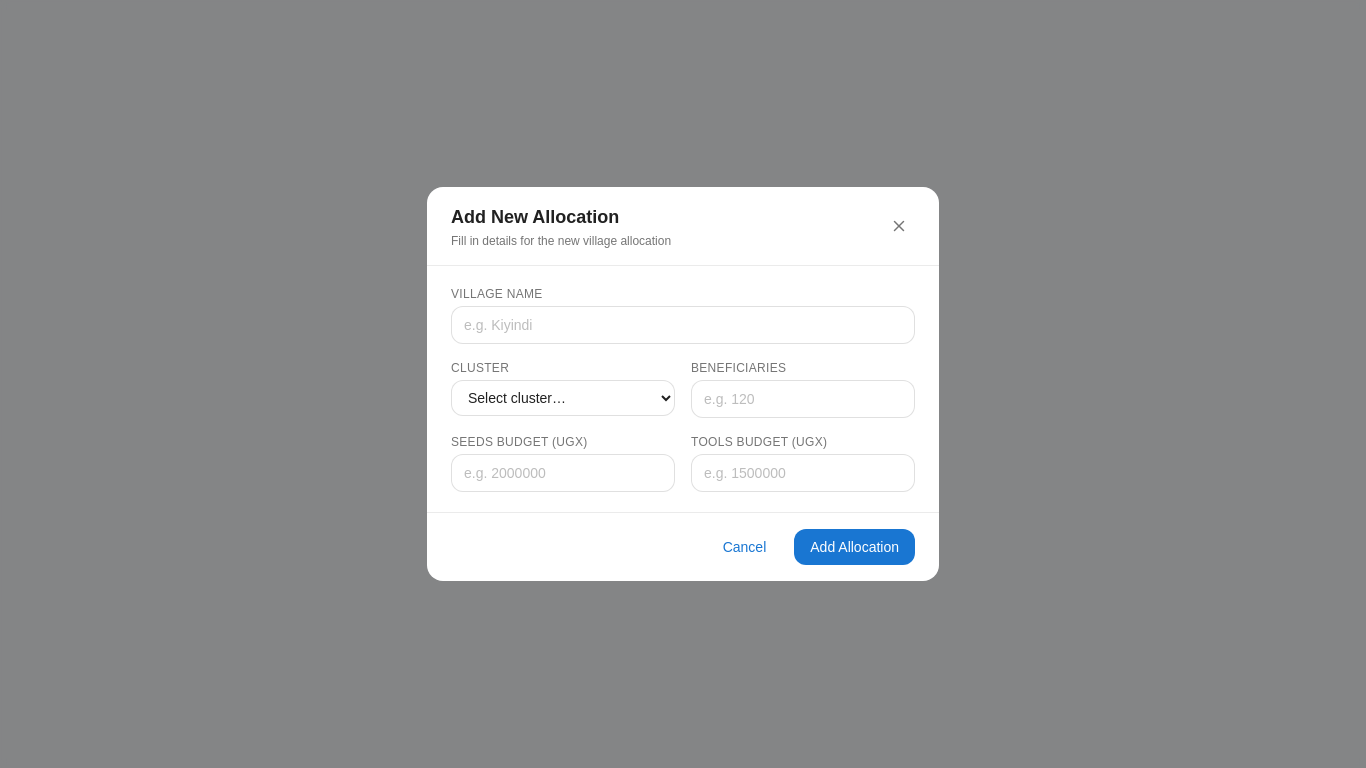
Test case: validation › rejects 1-character village name
Type "X" into the field with placeholder "e.g. Kiyindi".
click(683, 325); type("X")  # box [451,306,915,344]
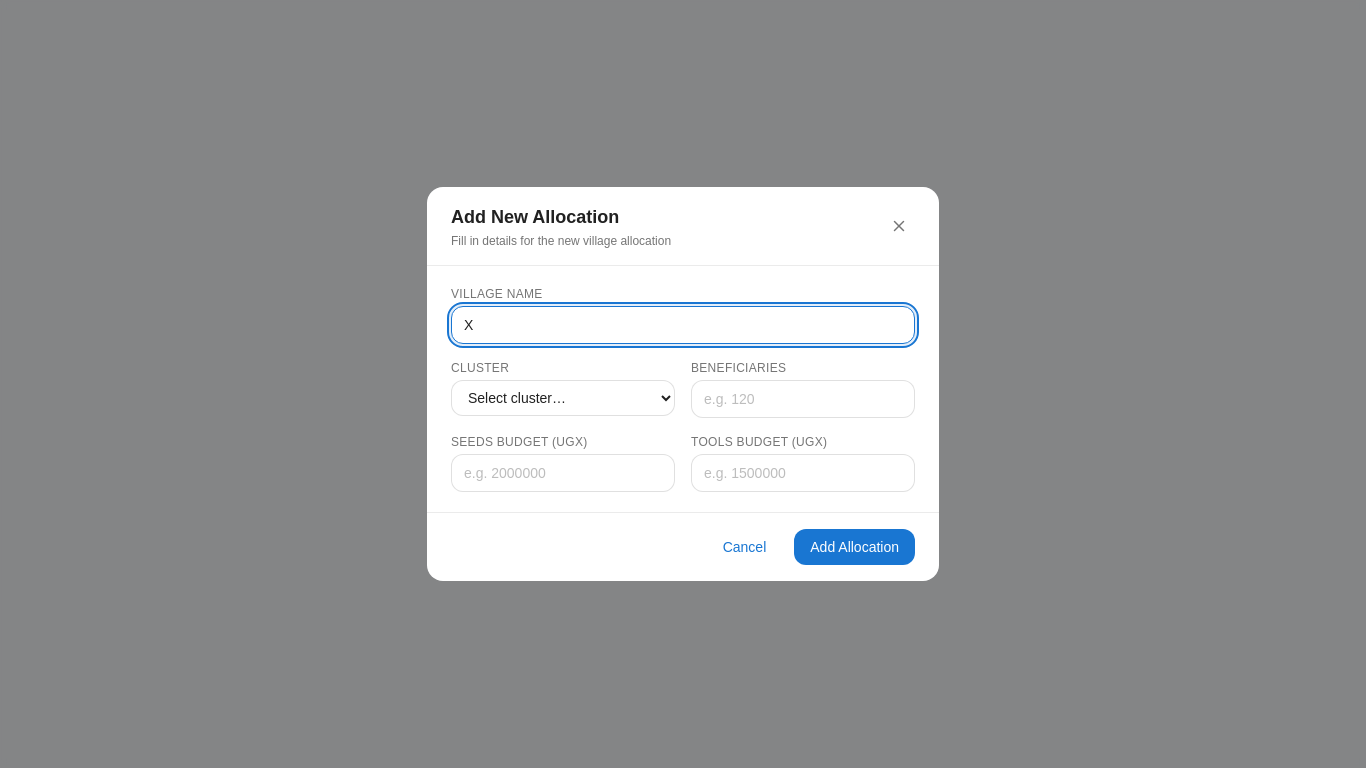
Click the button "Add Allocation".
click(855, 547)  # box [794,529,915,565]
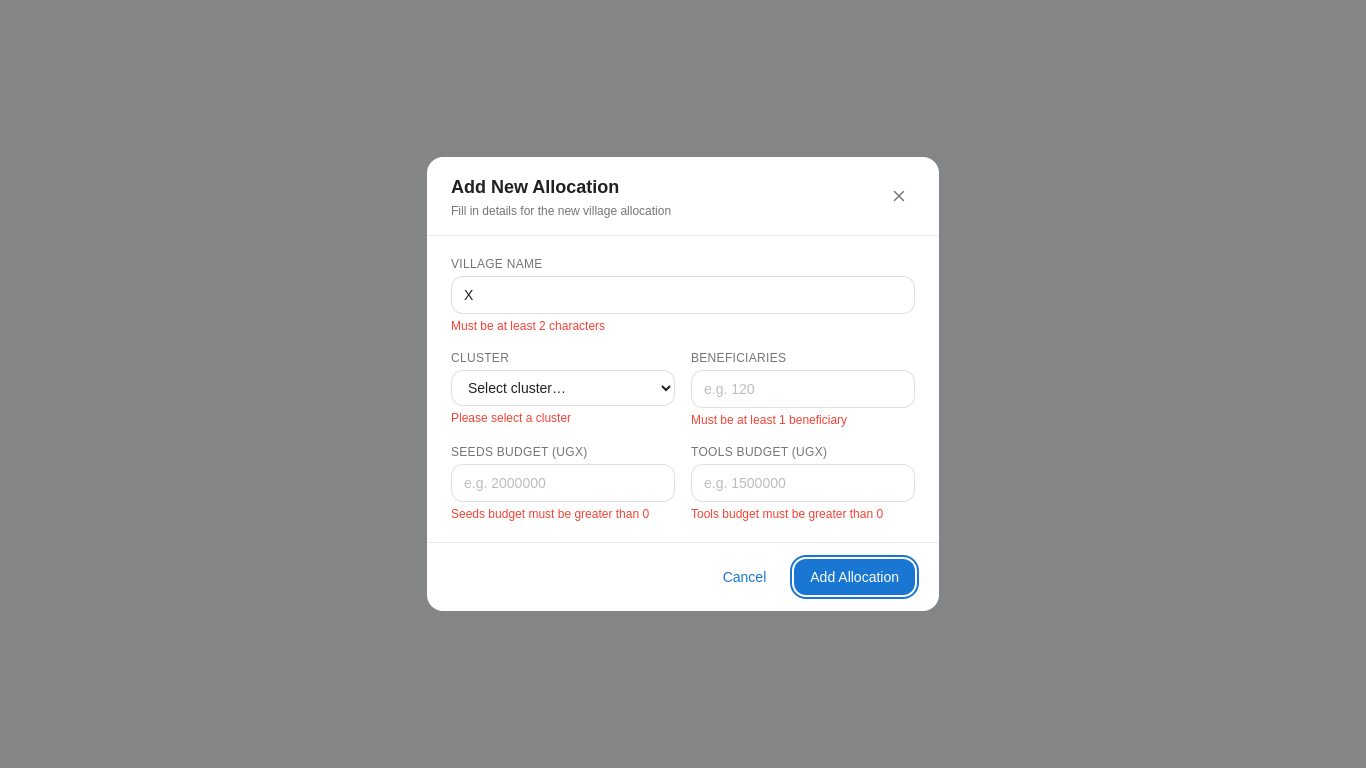
Now the text "Must be at least 2 characters" is shown, box [451,319,605,333]
